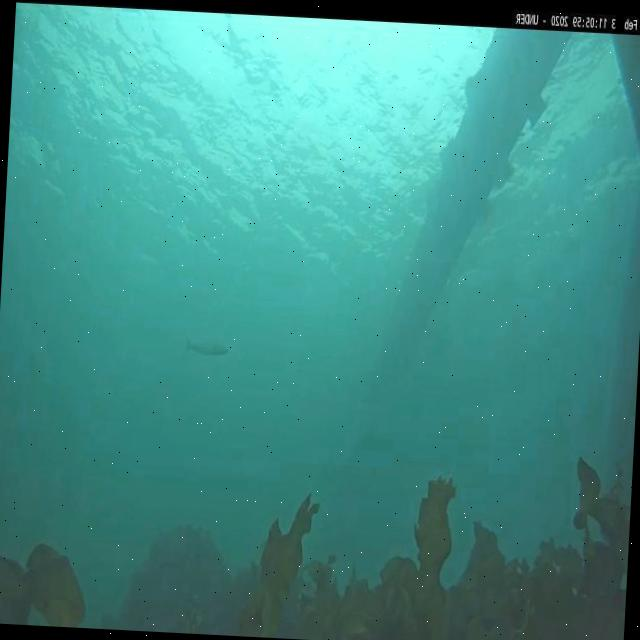fish: (184, 333, 232, 361)
